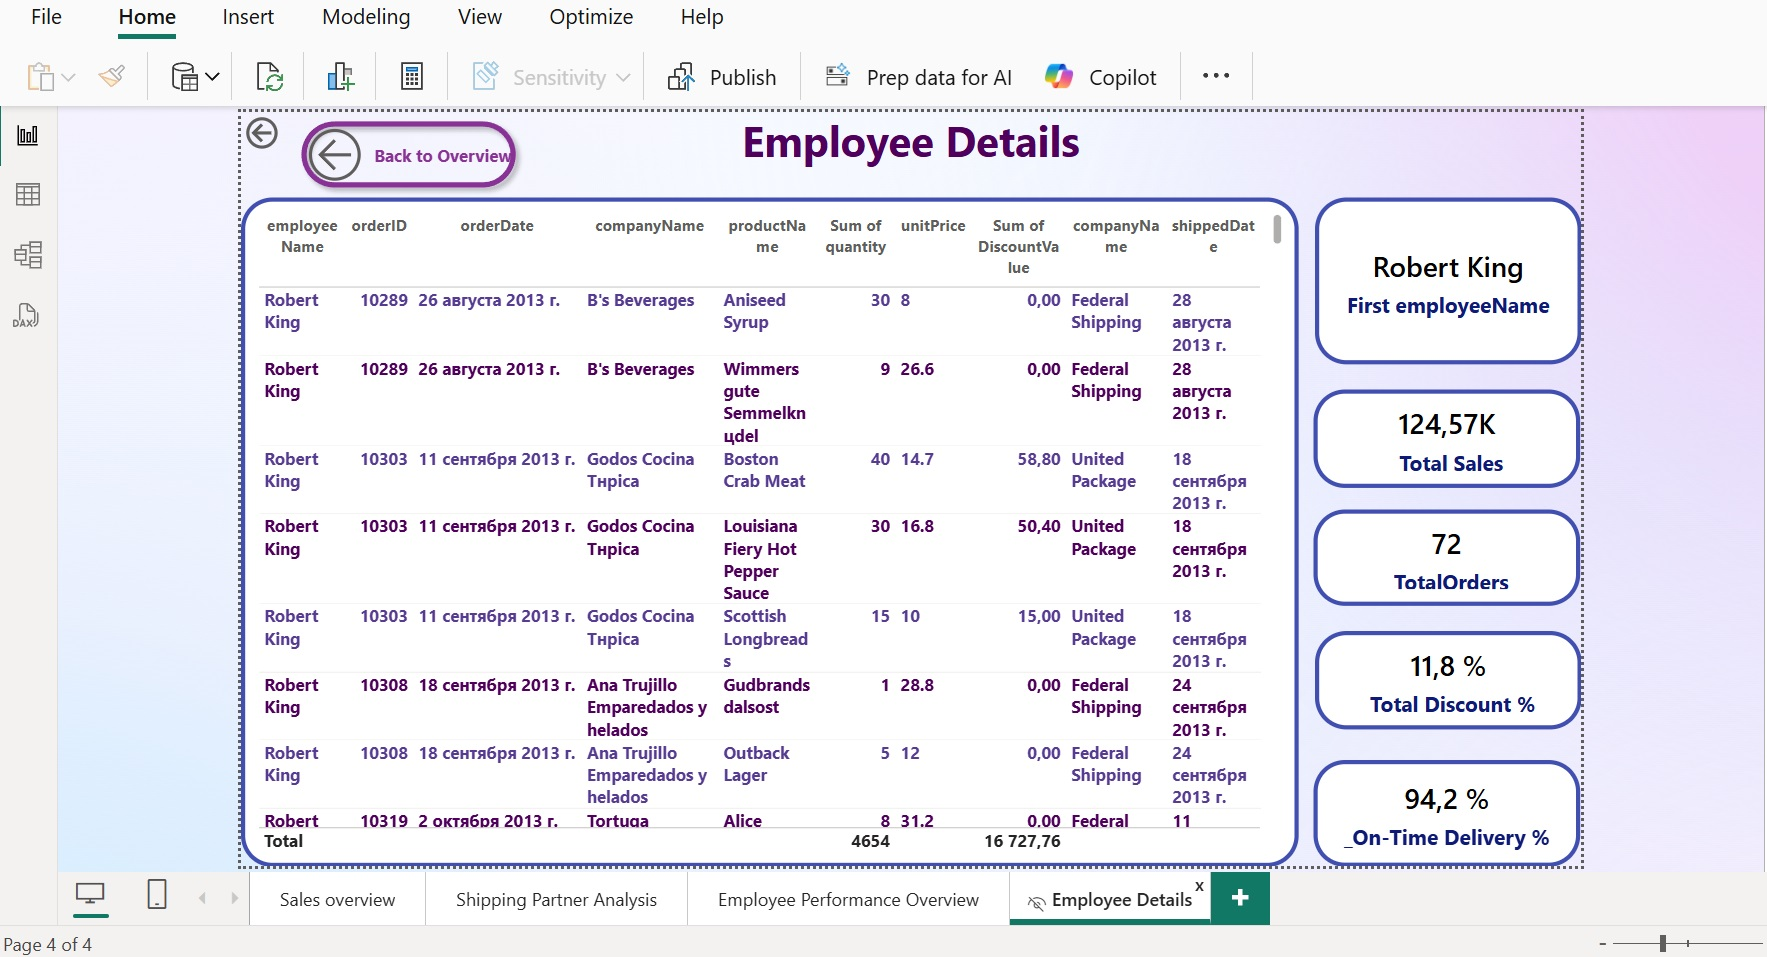

This screenshot's page, from the dashboard's own definition file:
{"tool":"powerbi","page":{"name":"Employee Details","canvas":[1280,720],"ordinal":3},"visuals":[{"type":"actionButton","box":[0,0,100,40],"z":0},{"type":"textbox","title":"Employee Details","box":[0,0,1279.4,58.6],"z":1000},{"type":"tableEx","fields":{"Values":["employees.employeeName","orders.orderID","orders.orderDate","customers.companyName","products.productName","Sum(order_details.quantity)","order_details.unitPrice","Sum(order_details.DiscountValue)","shippers.companyName","orders.shippedDate"]},"box":[0,81.1,1010,639.4],"z":2000},{"type":"card","fields":{"Values":["_measures._Total Sales"]},"box":[1024.4,265.6,254.5,93.8],"z":3000},{"type":"card","fields":{"Values":["_measures._TotalOrders"]},"box":[1024.4,380.2,254.5,92.3],"z":4000},{"type":"card","fields":{"Values":["_measures._Total Discount %"]},"box":[1025.9,496.3,254.5,93.8],"z":5000},{"type":"card","fields":{"Values":["_measures._On-Time Delivery %"]},"box":[1024.4,618.7,254.5,101.8],"z":6000},{"type":"card","fields":{"Values":["Min(employees.employeeName)"]},"box":[1025.9,81.1,254.5,159.1],"z":7000},{"type":"actionButton","box":[49.3,0,222.7,81.1],"z":7001}]}

Visuals, with their boxes on the page's 1280x720 design canvas (x1, y1, x2, y2). These are canvas units, not pixel positions in the 1767x957 screenshot, which may show the page scaled, cropped or inside an application window:
actionButton: 0 0 100 40
"Employee Details" textbox: 0 0 1279 59
tableEx - employees.employeeName x orders.orderID: 0 81 1010 720
card - _measures._Total Sales: 1024 266 1279 359
card - _measures._TotalOrders: 1024 380 1279 472
card - _measures._Total Discount %: 1026 496 1280 590
card - _measures._On-Time Delivery %: 1024 619 1279 720
card - Min(employees.employeeName): 1026 81 1280 240
actionButton: 49 0 272 81
